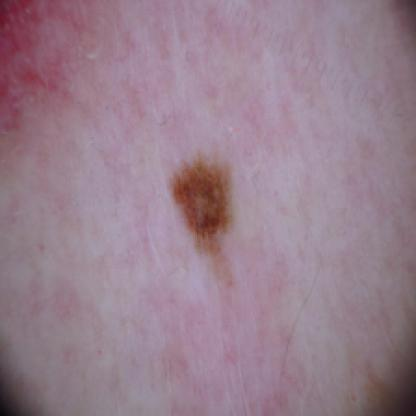benign: (160, 152, 258, 270)
